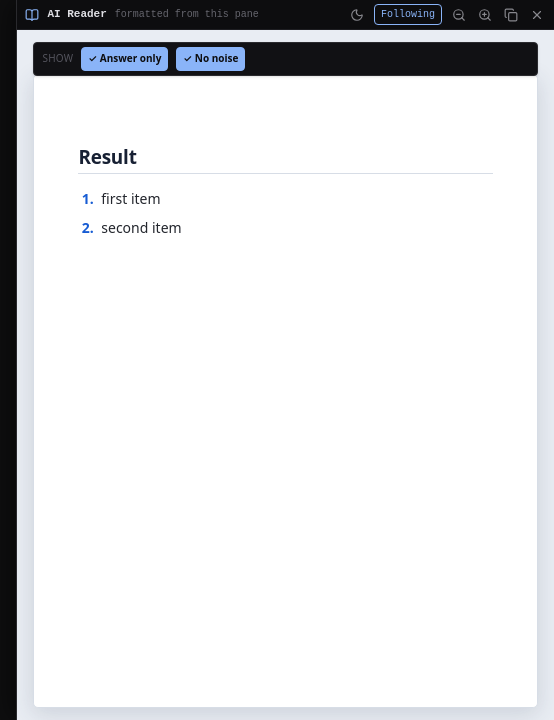
AI Reader › shows only the latest Codex answer by default and restores history on request
This screenshot has width=554, height=720.
(page scrolled)
Expected: the text "old terminal history" is not shown
Expected: the text "Thinking" is not shown
Click the button "✓ No noise". click: click(211, 59)
box: [176,47,245,70]
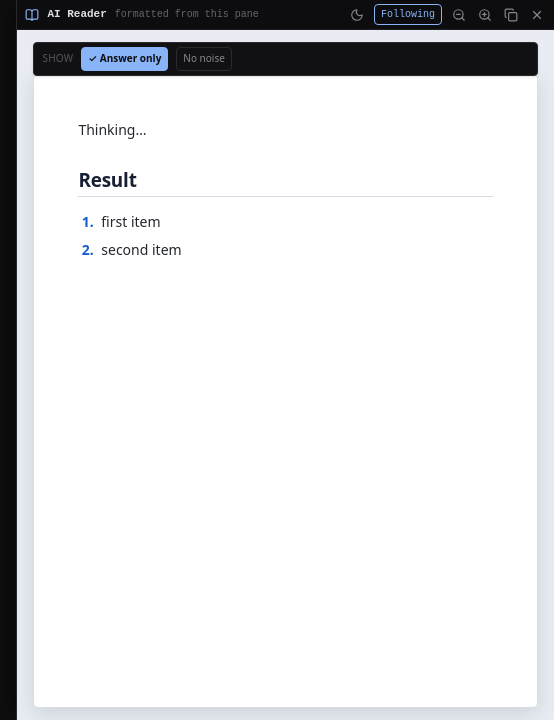
Expected: the text "Thinking…" is shown, [78,120,146,138]
Click the button "✓ Answer only". click: click(125, 59)
box: [81,47,168,70]
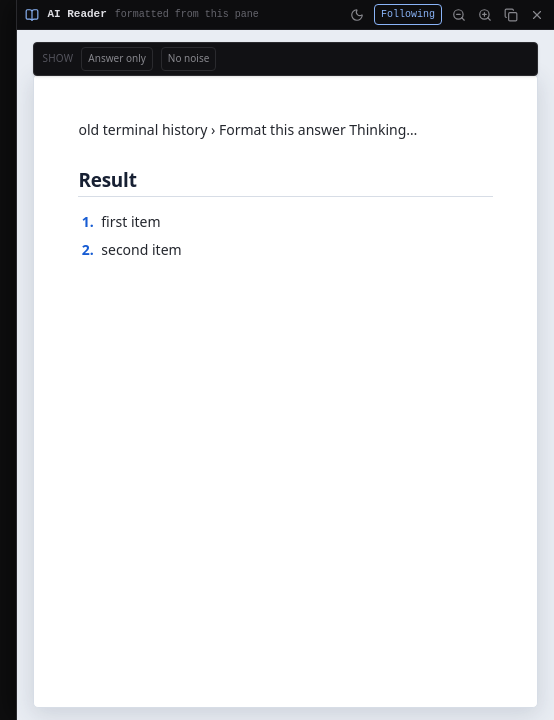
Expected: the text "old terminal history › Format this answer Thinking…" is shown, [78,120,417,138]
